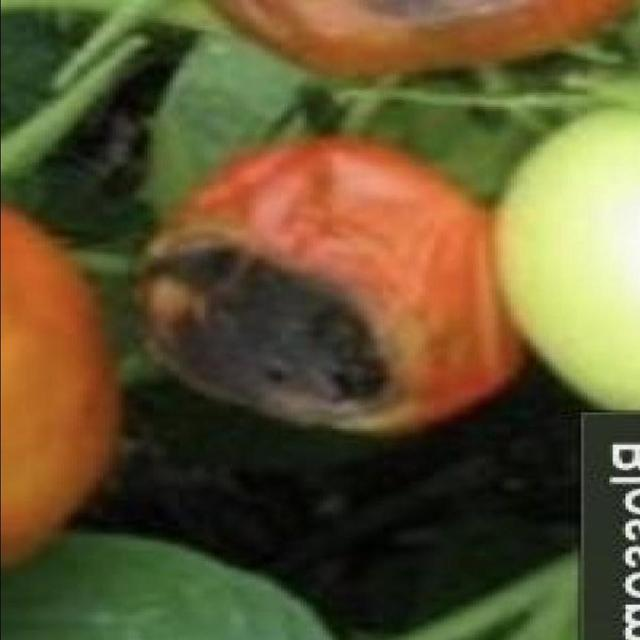Blossom End Rot Fruit: (107, 8, 283, 222)
